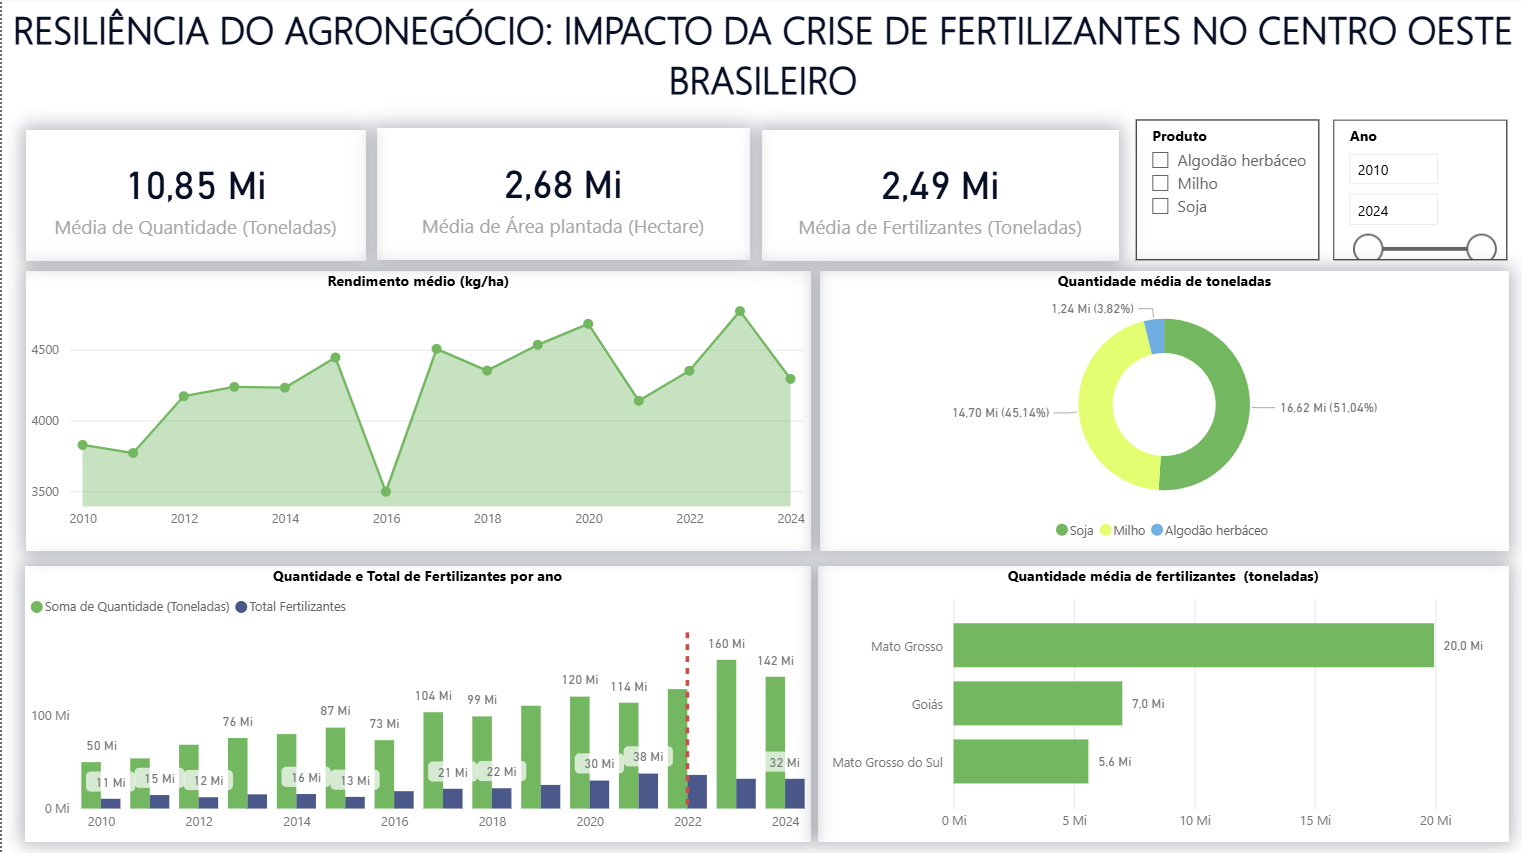

This screenshot's page, from the dashboard's own definition file:
{"tool":"powerbi","page":{"name":"Página 1","canvas":[1280,720],"ordinal":0},"visuals":[{"type":"card","fields":{"Values":["Avg(Base_final_agrícola.Quantidade (Toneladas))"]},"box":[19.8,111.6,286,110.5],"z":0},{"type":"card","fields":{"Values":["Avg(Base_final_agrícola.Área plantada (Hectare))"]},"box":[326.7,111.6,314,111.6],"z":1000},{"type":"card","fields":{"Values":["Avg(Base_final_agrícola.Fertilizantes (Toneladas))"]},"box":[639.5,111.6,300,110.5],"z":2000},{"type":"lineClusteredColumnComboChart","fields":{"Category":["Base_final_agrícola.Ano"],"Y":["Avg(Base_final_agrícola.Quantidade (Toneladas))","Base_final_agrícola.Total Fertilizantes"]},"box":[19.2,478.9,661.4,231.9],"z":3000},{"type":"clusteredBarChart","title":"Quantidade média de fertilizantes  (toneladas)","fields":{"Y":["Avg(Base_final_agrícola.Quantidade (Toneladas))"],"Category":["Base_final_agrícola.UF"]},"box":[686.1,478.9,580.4,231.9],"z":4000},{"type":"slicer","fields":{"Values":["Base_final_agrícola.Produto"]},"box":[953.5,103.5,154.7,118.6],"z":5000},{"type":"slicer","fields":{"Values":["Base_final_agrícola.Ano"]},"box":[1119.8,103.5,146.5,118.6],"z":6000},{"type":"lineChart","title":"Rendimento médio (kg/ha)","fields":{"Y":["Avg(Base_final_agrícola.Rendimento (kg/ha))"],"Category":["Base_final_agrícola.Ano"]},"box":[19.8,230.2,660.5,236],"z":6001},{"type":"donutChart","title":"Quantidade média de toneladas ","fields":{"Category":["Base_final_agrícola.Produto"],"Y":["Avg(Base_final_agrícola.Quantidade (Toneladas))"]},"box":[686,230.2,580.2,236],"z":6002},{"type":"textbox","box":[0,0,1280.2,84.9],"z":6003}]}

Visuals, with their boxes in screenshot pixels (x1, y1, x2, y2), scaled from the page's 1280x720 canvas onto the 1522x853 screenshot:
card - Avg(Base_final_agrícola.Quantidade (Toneladas)): select_region(24, 132, 364, 263)
card - Avg(Base_final_agrícola.Área plantada (Hectare)): select_region(388, 132, 762, 264)
card - Avg(Base_final_agrícola.Fertilizantes (Toneladas)): select_region(760, 132, 1117, 263)
lineClusteredColumnComboChart - Base_final_agrícola.Ano x Avg(Base_final_agrícola.Quantidade (Toneladas)): select_region(23, 567, 809, 842)
"Quantidade média de fertilizantes  (toneladas)" clusteredBarChart: select_region(816, 567, 1506, 842)
slicer - Base_final_agrícola.Produto: select_region(1134, 123, 1318, 263)
slicer - Base_final_agrícola.Ano: select_region(1332, 123, 1506, 263)
"Rendimento médio (kg/ha)" lineChart: select_region(24, 273, 809, 552)
"Quantidade média de toneladas " donutChart: select_region(816, 273, 1506, 552)
textbox: select_region(0, 0, 1521, 101)
